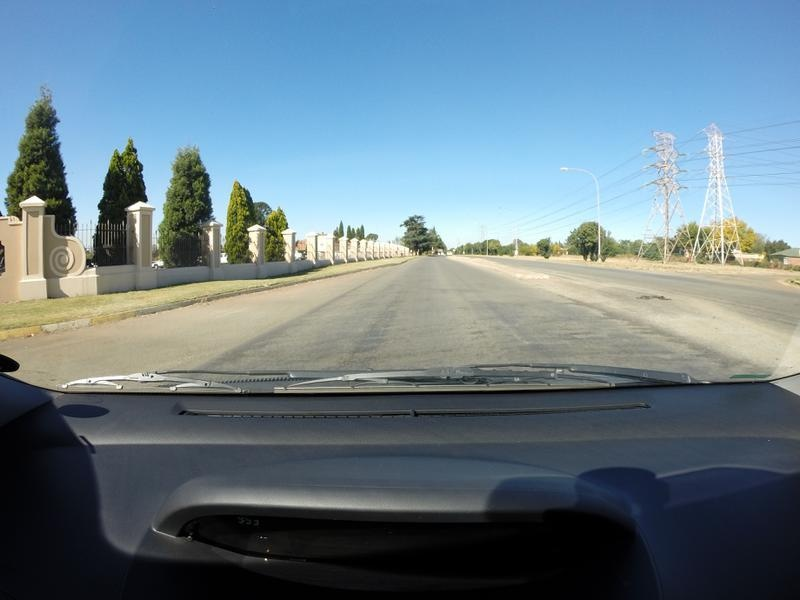pothole: (638, 295, 673, 301)
